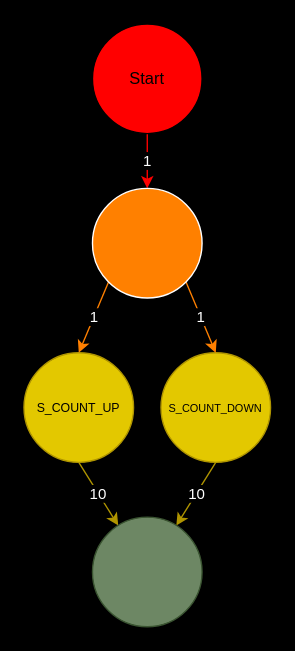
Image size: 295x651. Some labels were removed from this diagram. The box of each missing label's shape, as (x1, y1, x2, y2) in pixels:
End: (91, 516, 202, 627)
S_LOAD: (91, 187, 202, 298)
